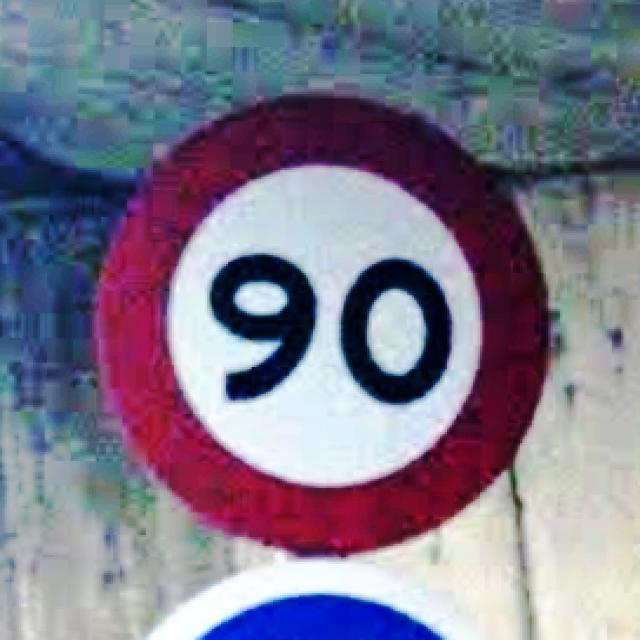max90: (87, 87, 553, 555)
